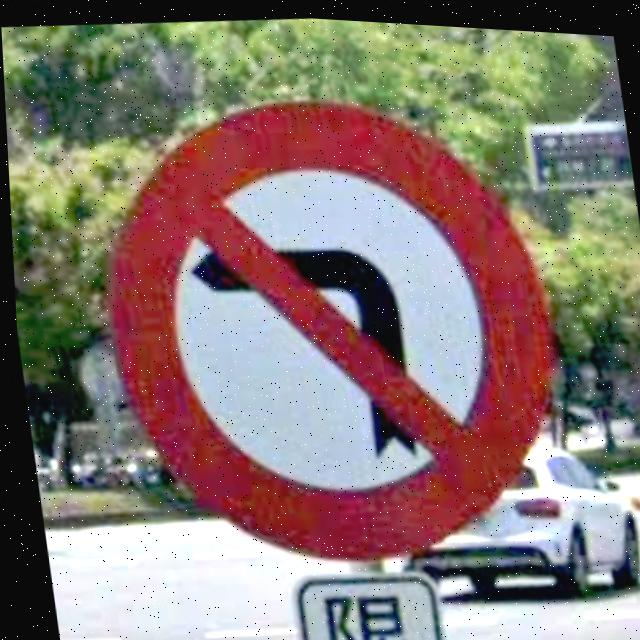noturnleft: (103, 98, 555, 559)
